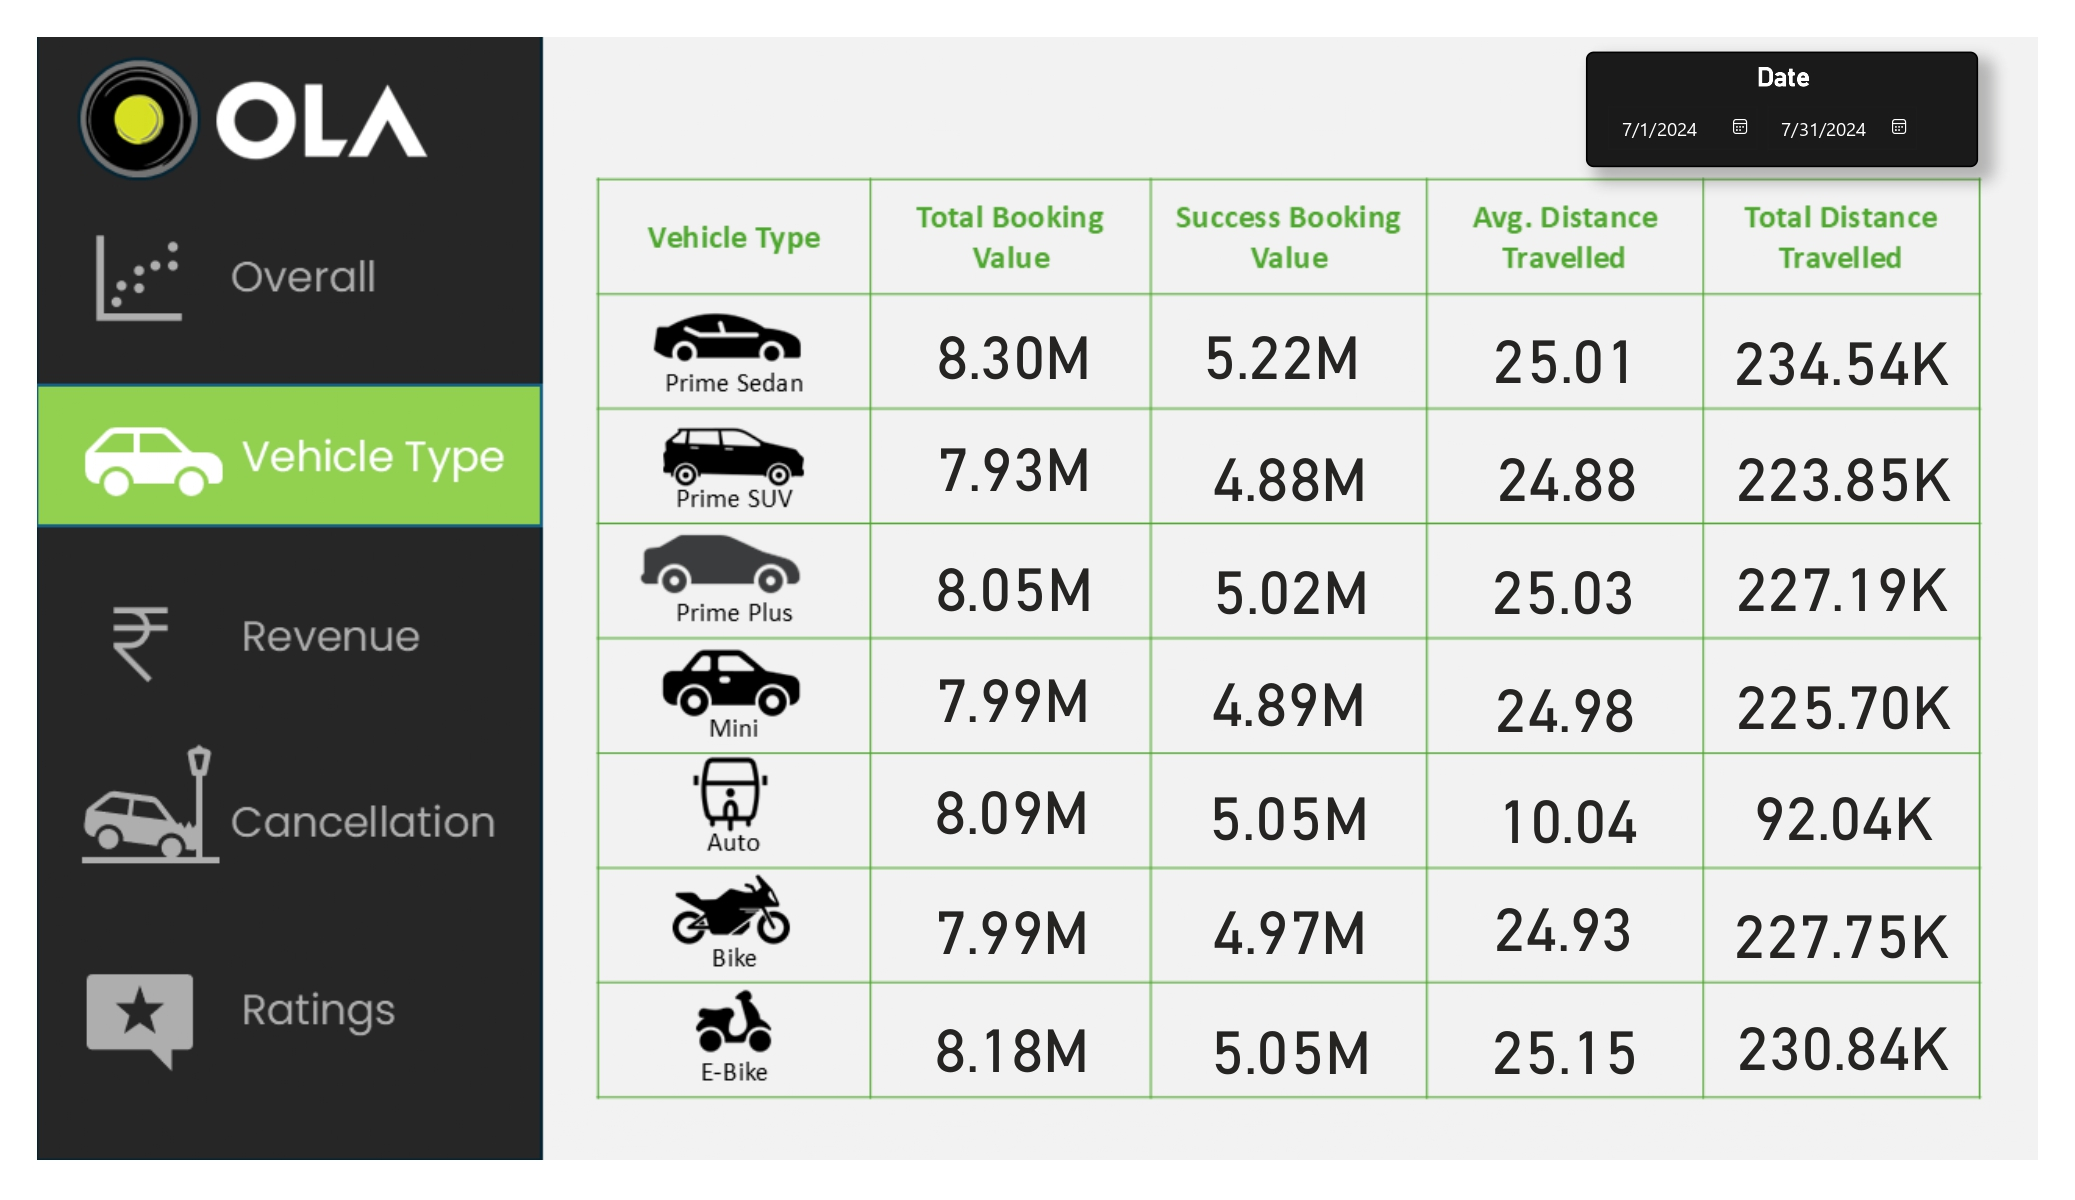

The dashboard page shown, as its layout file describes it:
{"tool":"powerbi","page":{"name":"VEHICAL TYPE","canvas":[1280,720],"ordinal":1},"visuals":[{"type":"actionButton","box":[0,222.1,323.9,92],"z":0},{"type":"actionButton","box":[0,336.2,323.8,91.9],"z":1000},{"type":"actionButton","box":[0,457.7,323.9,92],"z":2000},{"type":"actionButton","box":[0,577.9,323.9,92],"z":3000},{"type":"actionButton","box":[0,109.2,323.9,92],"z":4000},{"type":"card","fields":{"Values":["Sum(July.Booking_Value)"]},"box":[710.3,165.4,170.5,62.8],"z":5000},{"type":"card","fields":{"Values":["Sum(July.Booking_Value)"]},"box":[715.4,239.7,173.1,70.5],"z":6000},{"type":"card","fields":{"Values":["Sum(July.Booking_Value)"]},"box":[715.4,311.5,173.1,70.5],"z":7000},{"type":"card","fields":{"Values":["Sum(July.Booking_Value)"]},"box":[714.1,383.3,173.1,70.5],"z":8000},{"type":"card","fields":{"Values":["Sum(July.Booking_Value)"]},"box":[710.3,456.4,180.8,70.5],"z":9000},{"type":"card","fields":{"Values":["Sum(July.Booking_Value)"]},"box":[715.4,529.5,173.1,70.5],"z":10000},{"type":"card","fields":{"Values":["Sum(July.Booking_Value)"]},"box":[715.4,606.4,173.1,70.5],"z":11000},{"type":"card","fields":{"Values":["Sum(July.Booking_Value)"]},"box":[539.7,165.4,170.5,62.8],"z":12000},{"type":"card","fields":{"Values":["Sum(July.Booking_Value)"]},"box":[539.7,233.3,170.5,70.5],"z":13000},{"type":"card","fields":{"Values":["Sum(July.Booking_Value)"]},"box":[539.7,310.3,170.5,70.5],"z":14000},{"type":"card","fields":{"Values":["Sum(July.Booking_Value)"]},"box":[538.5,387.2,171.8,59],"z":15000},{"type":"card","fields":{"Values":["Sum(July.Booking_Value)"]},"box":[538.5,459,170.5,57.7],"z":16000},{"type":"card","fields":{"Values":["Sum(July.Booking_Value)"]},"box":[538.5,529.5,170.5,70.5],"z":17000},{"type":"card","fields":{"Values":["Sum(July.Booking_Value)"]},"box":[538.5,605.1,170.5,70.5],"z":18000},{"type":"card","fields":{"Values":["Avg(July.Ride_Distance)"]},"box":[892.3,164.1,170.5,70.5],"z":19000},{"type":"card","fields":{"Values":["Avg(July.Ride_Distance)"]},"box":[892.3,239.7,173.1,70.5],"z":20000},{"type":"card","fields":{"Values":["Avg(July.Ride_Distance)"]},"box":[889.7,311.5,173.1,70.5],"z":21000},{"type":"card","fields":{"Values":["Avg(July.Ride_Distance)"]},"box":[891,387.2,173.1,70.5],"z":22000},{"type":"card","fields":{"Values":["Avg(July.Ride_Distance)"]},"box":[891,459,176.9,70.5],"z":23000},{"type":"card","fields":{"Values":["Avg(July.Ride_Distance)"]},"box":[889.7,529.5,173.1,67.9],"z":24000},{"type":"card","fields":{"Values":["Avg(July.Ride_Distance)"]},"box":[891,606.4,173.1,70.5],"z":25000},{"type":"card","fields":{"Values":["Sum(July.Ride_Distance)"]},"box":[1069.2,165.4,170.5,70.5],"z":26000},{"type":"card","fields":{"Values":["Sum(July.Ride_Distance)"]},"box":[1069.2,239.7,173.1,70.5],"z":27000},{"type":"card","fields":{"Values":["Sum(July.Ride_Distance)"]},"box":[1067.9,310.3,173.1,70.5],"z":28000},{"type":"card","fields":{"Values":["Sum(July.Ride_Distance)"]},"box":[1069.2,385.9,173.1,70.5],"z":29000},{"type":"card","fields":{"Values":["Sum(July.Ride_Distance)"]},"box":[1069.2,456.4,173.1,70.5],"z":30000},{"type":"card","fields":{"Values":["Sum(July.Ride_Distance)"]},"box":[1067.9,532.1,173.1,70.5],"z":31000},{"type":"card","fields":{"Values":["Sum(July.Ride_Distance)"]},"box":[1069.2,603.8,173.1,70.5],"z":32000},{"type":"slicer","title":"Date ","fields":{"Values":["July.Date"]},"box":[991,9,251.3,74.4],"z":33000}]}

Visuals, with their boxes in screenshot pixels (x1, y1, x2, y2):
actionButton: box=[38, 385, 544, 528]
actionButton: box=[38, 563, 543, 706]
actionButton: box=[38, 753, 544, 896]
actionButton: box=[38, 940, 544, 1084]
actionButton: box=[38, 208, 544, 352]
card - Sum(July.Booking_Value): box=[1147, 296, 1414, 394]
card - Sum(July.Booking_Value): box=[1155, 412, 1426, 522]
card - Sum(July.Booking_Value): box=[1155, 524, 1426, 634]
card - Sum(July.Booking_Value): box=[1153, 636, 1424, 747]
card - Sum(July.Booking_Value): box=[1147, 751, 1430, 861]
card - Sum(July.Booking_Value): box=[1155, 865, 1426, 975]
card - Sum(July.Booking_Value): box=[1155, 985, 1426, 1095]
card - Sum(July.Booking_Value): box=[881, 296, 1147, 394]
card - Sum(July.Booking_Value): box=[881, 402, 1147, 512]
card - Sum(July.Booking_Value): box=[881, 522, 1147, 632]
card - Sum(July.Booking_Value): box=[879, 642, 1147, 735]
card - Sum(July.Booking_Value): box=[879, 755, 1145, 845]
card - Sum(July.Booking_Value): box=[879, 865, 1145, 975]
card - Sum(July.Booking_Value): box=[879, 983, 1145, 1093]
card - Avg(July.Ride_Distance): box=[1432, 294, 1698, 404]
card - Avg(July.Ride_Distance): box=[1432, 412, 1702, 522]
card - Avg(July.Ride_Distance): box=[1428, 524, 1698, 634]
card - Avg(July.Ride_Distance): box=[1430, 642, 1700, 753]
card - Avg(July.Ride_Distance): box=[1430, 755, 1706, 865]
card - Avg(July.Ride_Distance): box=[1428, 865, 1698, 971]
card - Avg(July.Ride_Distance): box=[1430, 985, 1700, 1095]
card - Sum(July.Ride_Distance): box=[1708, 296, 1975, 406]
card - Sum(July.Ride_Distance): box=[1708, 412, 1979, 522]
card - Sum(July.Ride_Distance): box=[1706, 522, 1977, 632]
card - Sum(July.Ride_Distance): box=[1708, 640, 1979, 751]
card - Sum(July.Ride_Distance): box=[1708, 751, 1979, 861]
card - Sum(July.Ride_Distance): box=[1706, 869, 1977, 979]
card - Sum(July.Ride_Distance): box=[1708, 981, 1979, 1091]
"Date " slicer: box=[1586, 52, 1979, 168]
